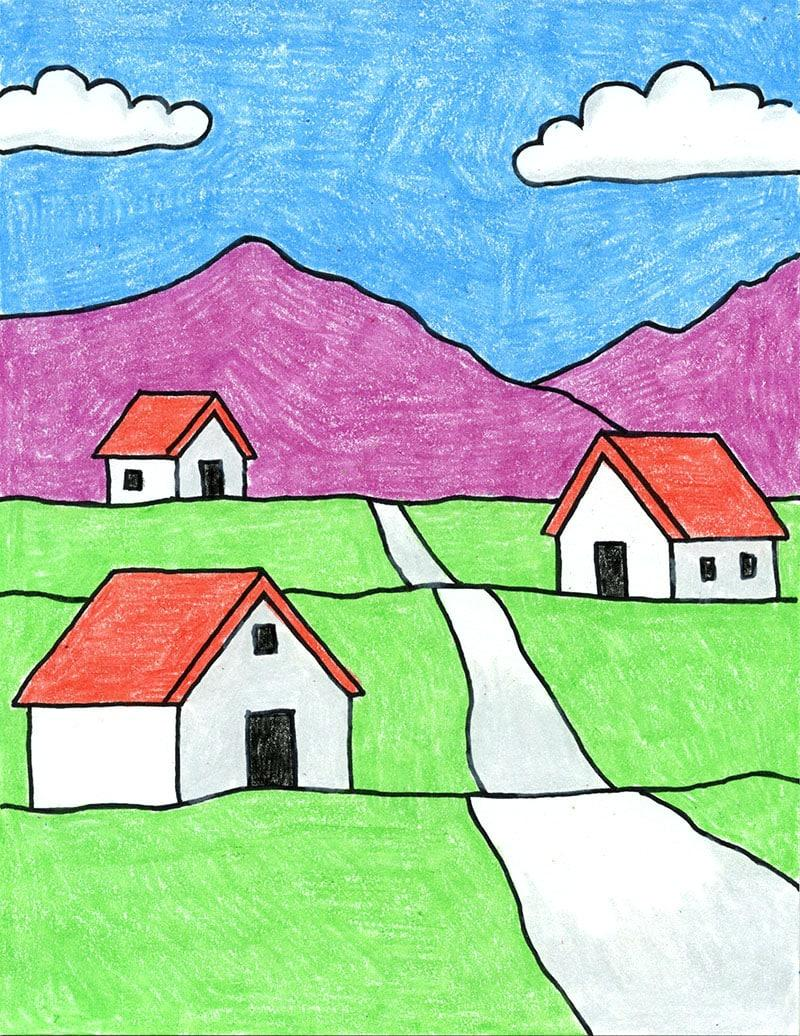NoHuman: (1, 0, 800, 1036)
